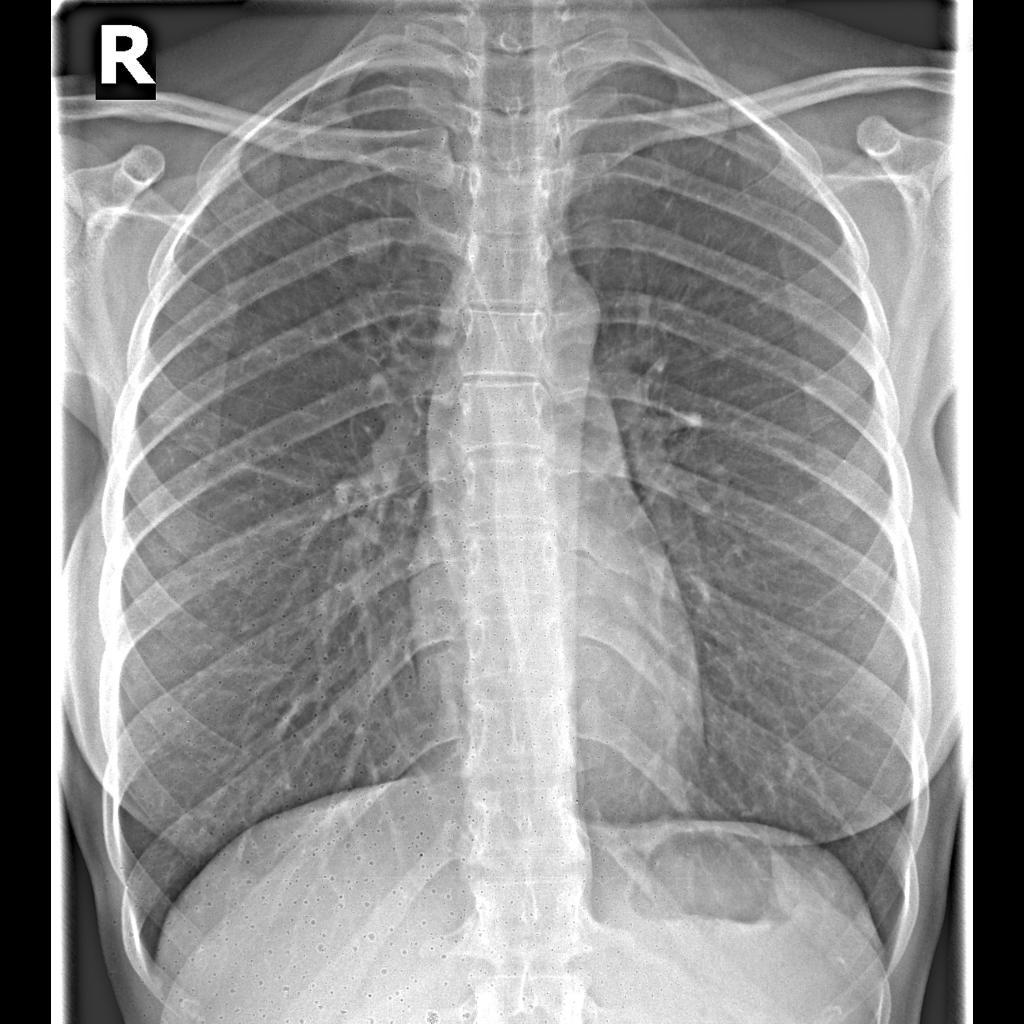Nodule: (335, 214, 400, 273)
